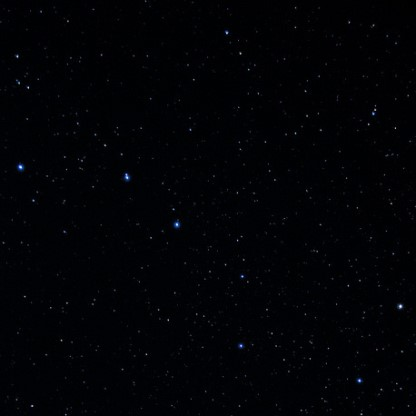Ursa Major: (112, 166, 142, 195), (162, 211, 191, 236), (388, 292, 414, 317), (8, 154, 32, 180), (226, 263, 252, 287), (228, 332, 252, 357), (347, 371, 370, 394)
